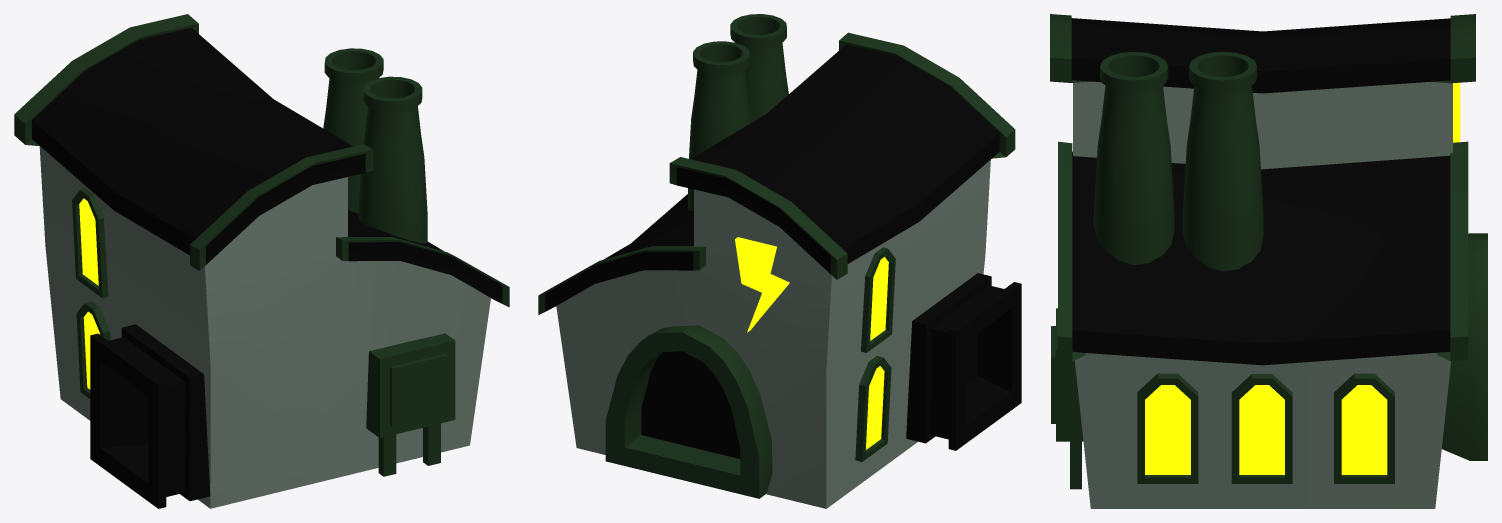
File: wool_power_plant.fbx
The picture shows the model from 3 angles, left to right: view 1: azimuth 30°, elevation 25°; view 2: azimuth 150°, elevation 25°; view 3: azimuth 270°, elevation 25°; orthographic projection. The views are drawn at different scales.
Parts seen in each view (by area): view 1: wool_power_plant.001; view 2: wool_power_plant.001; view 3: wool_power_plant.001.
Boxes of the visible parts, <box> form: wool_power_plant.001: <box>14,14,509,508</box>; wool_power_plant.001: <box>538,14,1021,508</box>; wool_power_plant.001: <box>1050,14,1487,508</box>.
Bounding box in the file's own units: 182 × 185 × 178.
